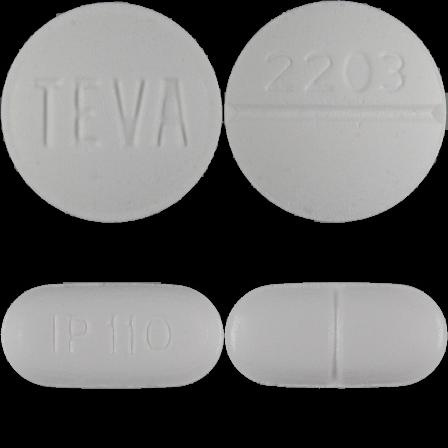12634-112: (0, 0, 224, 224)
